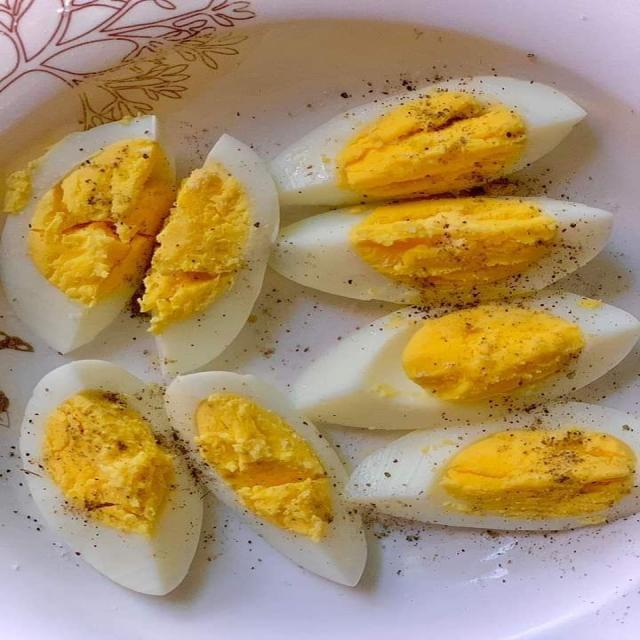egg boiled: (294, 294, 639, 429), (166, 372, 366, 585), (20, 360, 202, 594), (271, 76, 585, 205), (0, 116, 159, 353), (348, 402, 639, 530), (156, 135, 279, 375), (473, 197, 612, 300)
